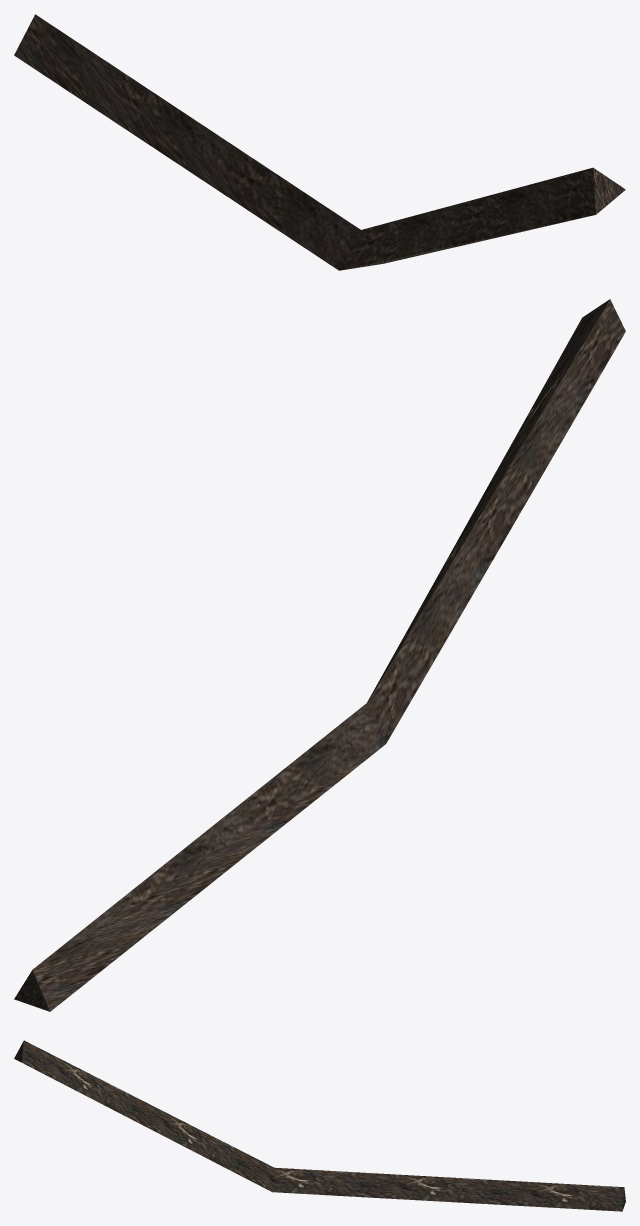
The model's file is prop_rubble_bar_sm_04.glb.
The picture shows the model from 3 angles, top to bottom: view 1: azimuth 30°, elevation 25°; view 2: azimuth 150°, elevation 25°; view 3: azimuth 270°, elevation 25°; orthographic projection. The views are drawn at different scales.
Size of the model in its own units: 2.81 by 16.36 by 56.1.
Materials: 1 (1 with a texture image).
